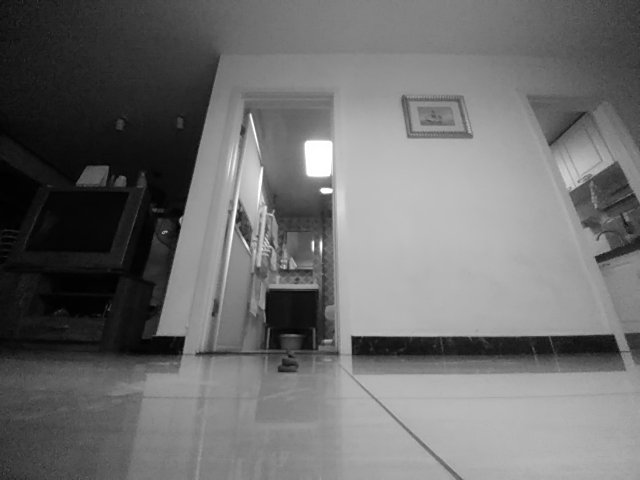pet feces: (278, 351, 299, 374)
